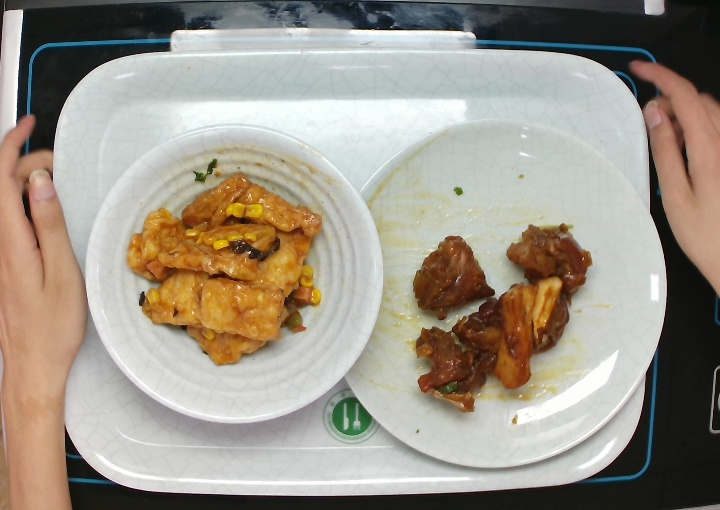JYsf-Da_Yuan_Pan: (341, 115, 670, 470)
JYsf-Xiao_Tang_Wan: (82, 119, 388, 427)
